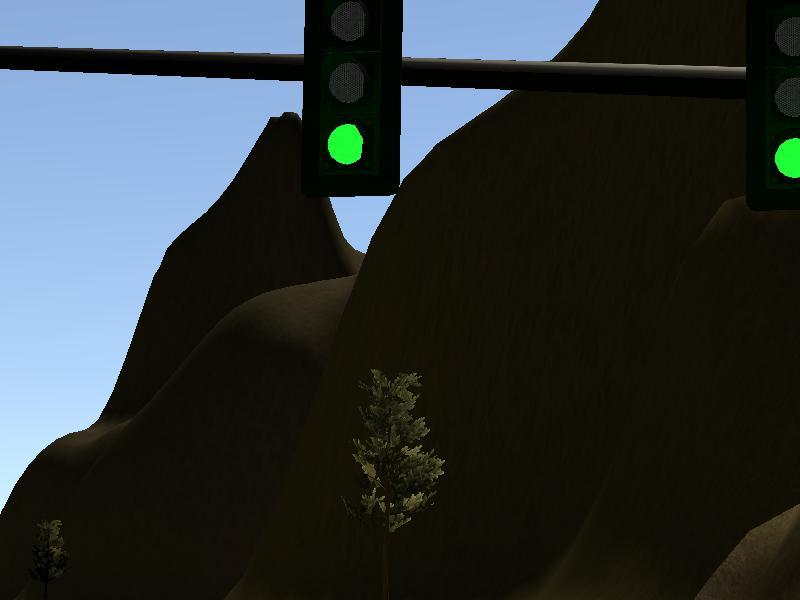Green: (305, 2, 396, 191), (760, 2, 800, 200)
